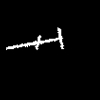double_crochet: (6, 28, 63, 49)
